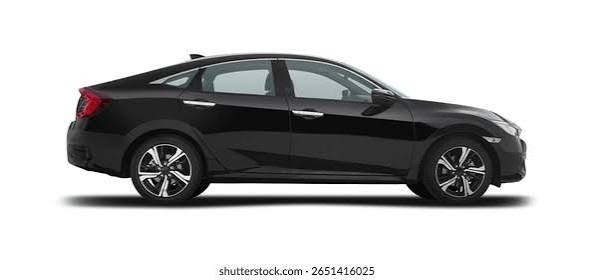car: (54, 49, 541, 200)
